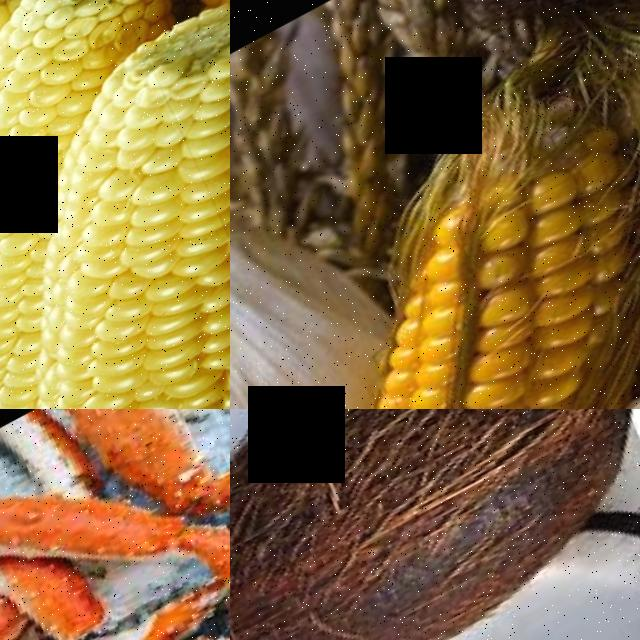coconut: (230, 409, 640, 640), (230, 515, 640, 640)
corn: (230, 121, 640, 409), (0, 0, 230, 409), (0, 0, 230, 218), (0, 0, 121, 130)
crab: (0, 409, 203, 640), (42, 409, 230, 573), (0, 521, 157, 640), (0, 561, 230, 640)
